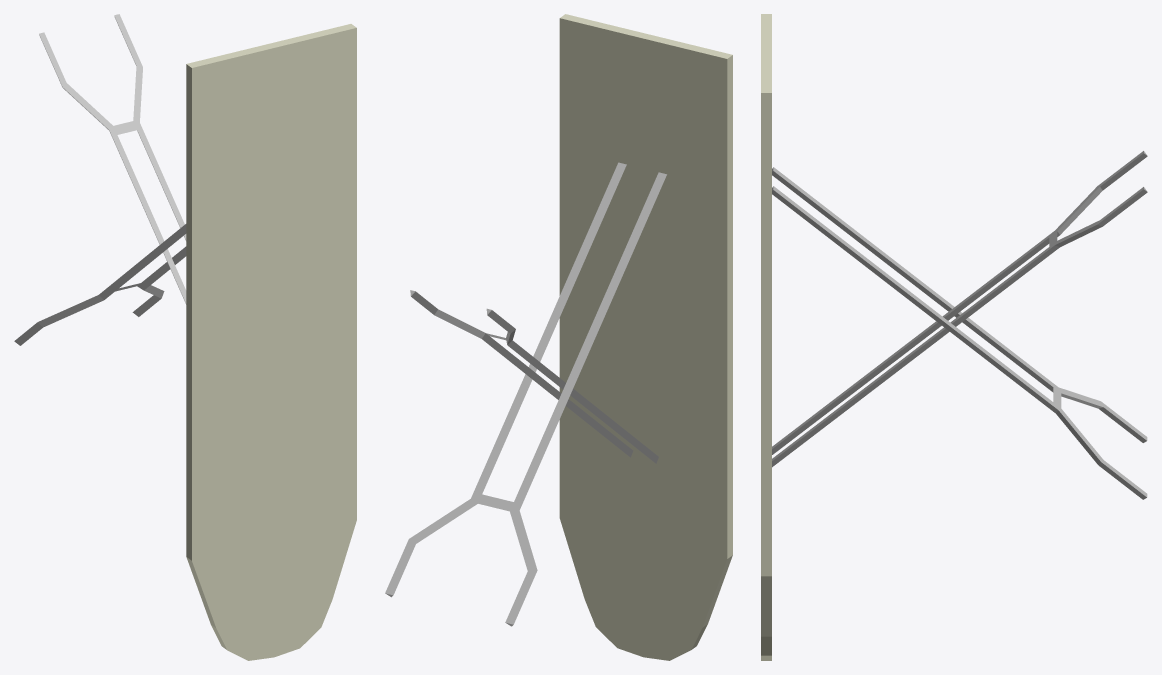
3 views of the same model, side by side, from view 1: azimuth 30°, elevation 25°; view 2: azimuth 150°, elevation 25°; view 3: azimuth 270°, elevation 25° (orthographic). The views are drawn at different scales.
Visible parts, largest first — view 1: ironing board; view 2: ironing board; view 3: ironing board.
Part boxes in pixels (x1,y1,x2,y2): ironing board: [14, 14, 356, 660]; ironing board: [385, 14, 732, 660]; ironing board: [761, 14, 1147, 660].
Size of the model in its own units: 17 by 60 by 35.18.
